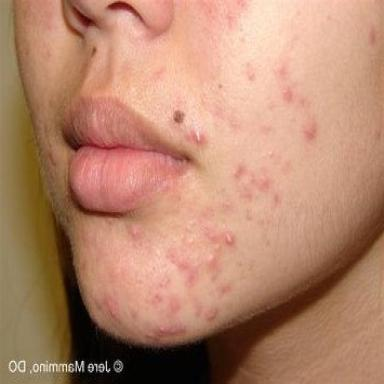acne: (169, 250, 198, 285), (155, 324, 186, 334), (129, 223, 143, 241), (191, 126, 204, 143), (367, 24, 377, 45), (304, 123, 317, 139), (257, 174, 269, 189), (283, 86, 293, 103), (207, 254, 217, 271), (106, 299, 116, 316), (205, 307, 217, 321), (170, 298, 180, 313), (223, 231, 234, 244), (205, 231, 218, 242), (235, 165, 245, 178), (274, 192, 281, 207), (242, 188, 250, 199), (229, 16, 234, 28), (279, 64, 284, 74), (214, 244, 220, 250)
